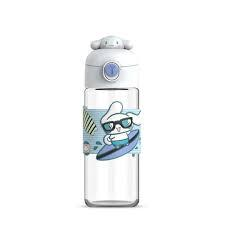BIODEGRADABLE: (82, 32, 140, 207)
